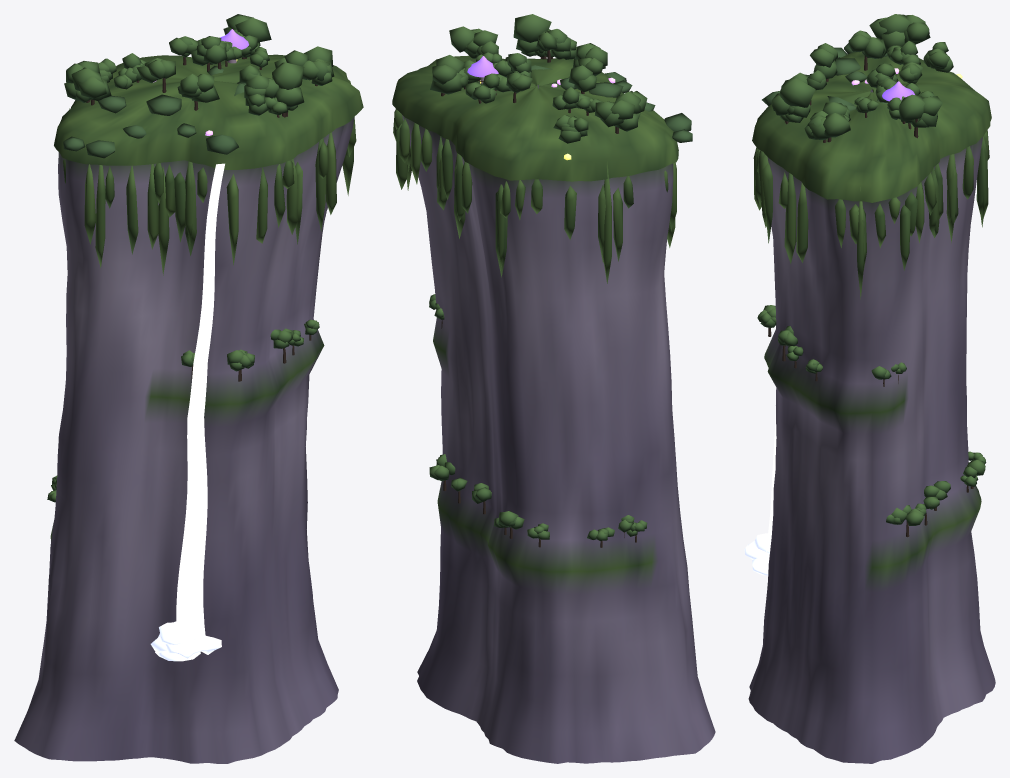
File: rock_tall.glb
3 views of the same model, side by side, from view 1: azimuth 30°, elevation 25°; view 2: azimuth 150°, elevation 25°; view 3: azimuth 270°, elevation 25° (orthographic). The views are drawn at different scales.
Parts seen in each view (by area): view 1: hero_valley_rock, hero_valley_moss, hero_valley_leaf, valley_falls, valley_spray; view 2: hero_valley_rock, hero_valley_moss, hero_valley_leaf; view 3: hero_valley_rock, hero_valley_moss, hero_valley_leaf, valley_spray, hero_valley_bark, valley_falls.
Part boxes in pixels (x1=…): hero_valley_rock: x1=14, y1=117, x2=354, y2=763; hero_valley_moss: x1=54, y1=54, x2=363, y2=275; hero_valley_leaf: x1=47, y1=14, x2=334, y2=502; valley_falls: x1=176, y1=163, x2=224, y2=639; valley_spray: x1=150, y1=621, x2=221, y2=661; hero_valley_rock: x1=402, y1=85, x2=715, y2=763; hero_valley_moss: x1=392, y1=55, x2=678, y2=283; hero_valley_leaf: x1=429, y1=14, x2=692, y2=540; hero_valley_rock: x1=748, y1=89, x2=995, y2=763; hero_valley_moss: x1=752, y1=51, x2=991, y2=299; hero_valley_leaf: x1=757, y1=14, x2=986, y2=525; valley_spray: x1=744, y1=533, x2=771, y2=575; hero_valley_bark: x1=768, y1=55, x2=973, y2=537; valley_falls: x1=764, y1=325, x2=776, y2=559.
Bounding box in the file's own units: 108 × 214 × 75.06.
